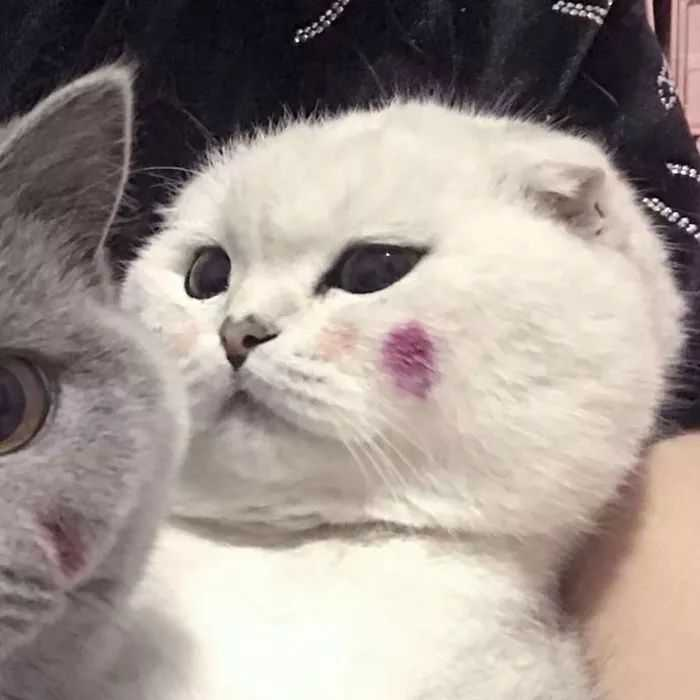cat: (142, 95, 672, 561)
